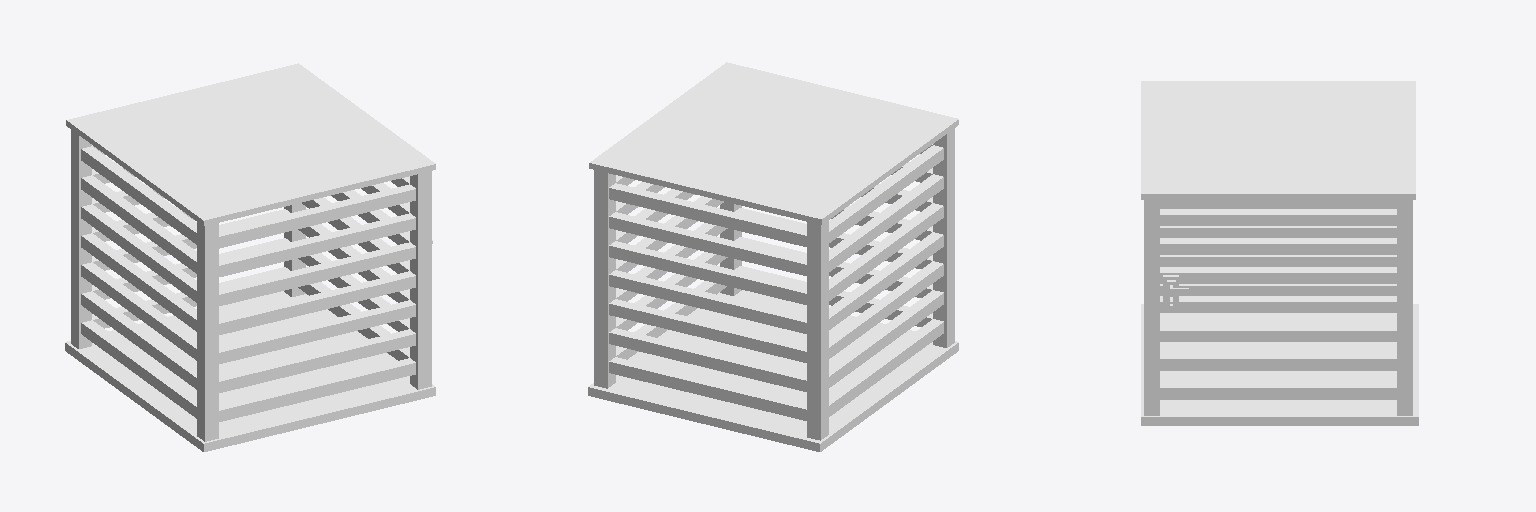
File: cage.obj
3 renders of one model, left to right at view 1: azimuth 30°, elevation 25°; view 2: azimuth 150°, elevation 25°; view 3: azimuth 270°, elevation 25°, orthographic.
Bounding box in the file's own units: 88 × 80 × 87.